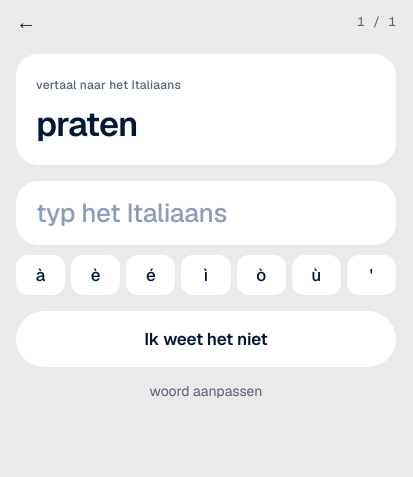
Scenario: Study – foute antwoorden worden niet overgeslagen › "Verder" na een fout antwoord laat het woord terugkomen als herkansing (niet verloren)
Type "fout" into the field with placeholder "typ het Italiaans" at {"x": 206, "y": 213}, box [16,181,396,245]
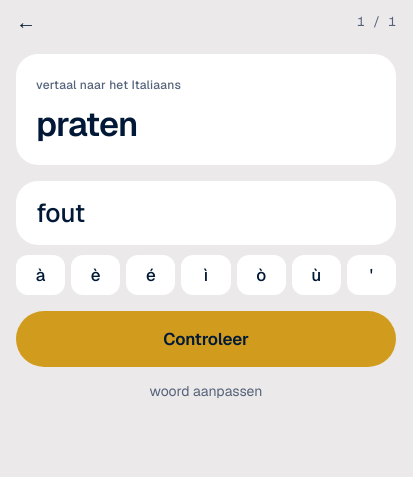
Click the button "Controleer" at {"x": 206, "y": 339}, box [16,311,396,367]
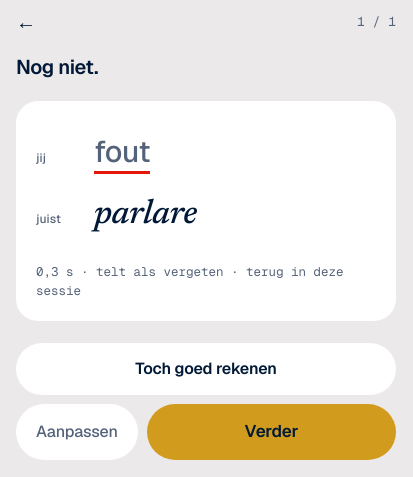
Click the button "Verder" at {"x": 271, "y": 432}, box [147,404,396,460]
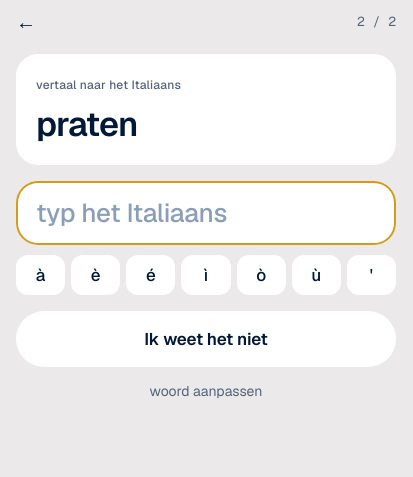
Expected: the field with placeholder "typ het Italiaans" is shown, [16,181,396,245]
